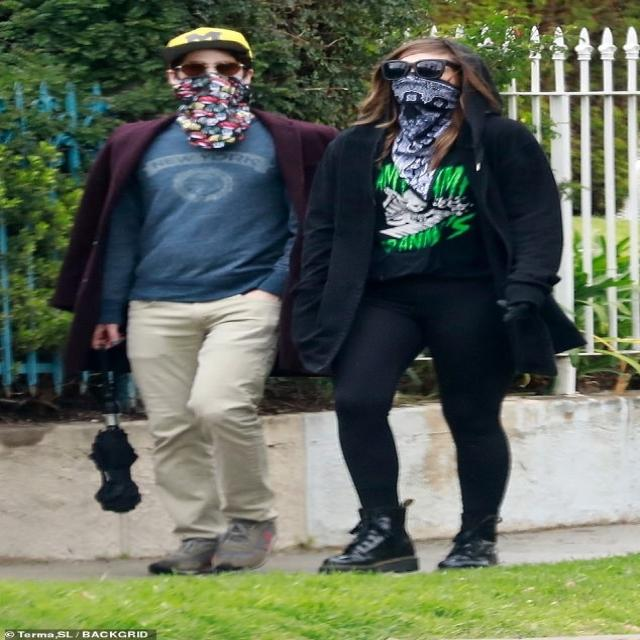hat: (162, 27, 252, 62)
